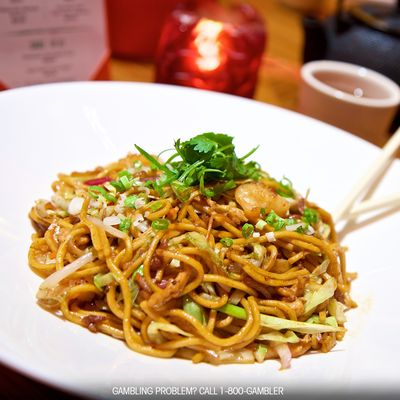curry: (264, 208, 318, 235)
sushi: (1, 80, 395, 400), (295, 59, 400, 149)
